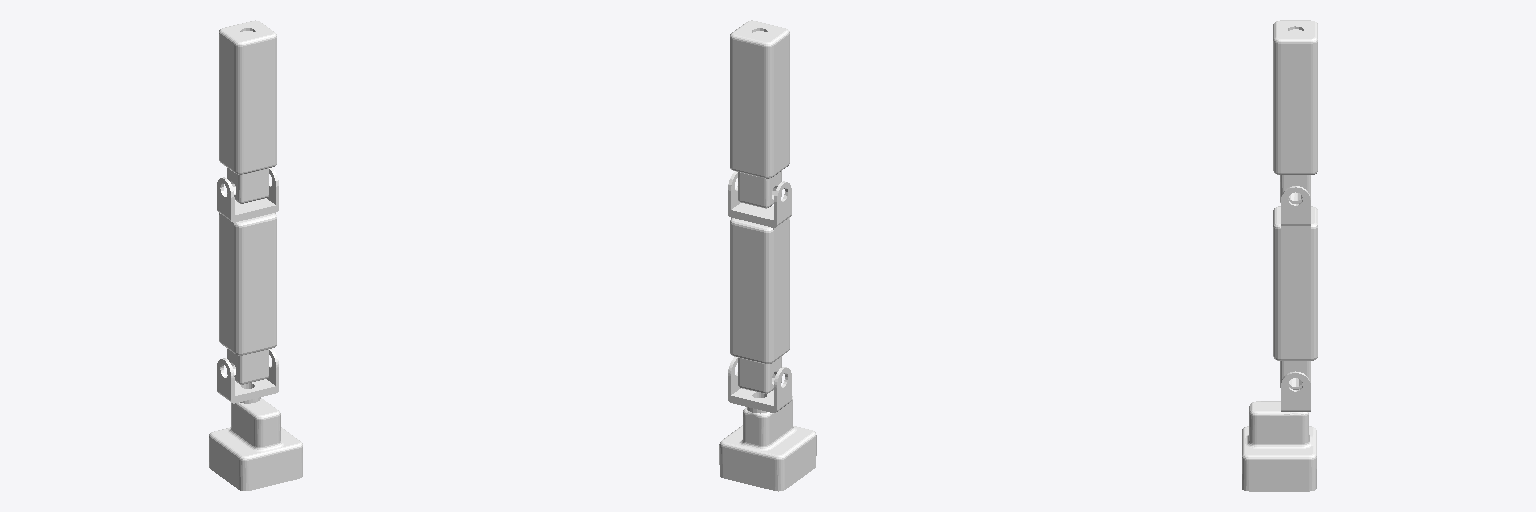
URDF robot description (arm_description):
<robot
  name="arm_description">
  <link
    name="base_link">
    <inertial>
      <origin
        xyz="-2.0703E-09 0.00010657 0.024068"
        rpy="0 0 0" />
      <mass
        value="0.17385" />
      <inertia
        ixx="0.00010151"
        ixy="4.9292E-12"
        ixz="1.2108E-11"
        iyy="9.4955E-05"
        iyz="-7.9143E-07"
        izz="9.7664E-05" />
    </inertial>
    <visual>
      <origin
        xyz="0 0 0"
        rpy="0 0 0" />
      <geometry>
        <mesh
          filename="package://arm_description/meshes/base_link.STL" />
      </geometry>
      <material
        name="">
        <color
          rgba="1 1 1 1" />
      </material>
    </visual>
    <collision>
      <origin
        xyz="0 0 0"
        rpy="0 0 0" />
      <geometry>
        <mesh
          filename="package://arm_description/meshes/base_link.STL" />
      </geometry>
    </collision>
  </link>
  <link
    name="bottom">
    <inertial>
      <origin
        xyz="-1.7347E-18 -4.3539E-17 0.0088832"
        rpy="0 0 0" />
      <mass
        value="0.011286" />
      <inertia
        ixx="4.4212E-06"
        ixy="-9.6522E-23"
        ixz="3.0781E-22"
        iyy="1.6248E-06"
        iyz="4.6026E-21"
        izz="4.115E-06" />
    </inertial>
    <visual>
      <origin
        xyz="0 0 0"
        rpy="0 0 0" />
      <geometry>
        <mesh
          filename="package://arm_description/meshes/bottom.STL" />
      </geometry>
      <material
        name="">
        <color
          rgba="1 1 1 1" />
      </material>
    </visual>
    <collision>
      <origin
        xyz="0 0 0"
        rpy="0 0 0" />
      <geometry>
        <mesh
          filename="package://arm_description/meshes/bottom.STL" />
      </geometry>
    </collision>
  </link>
  <joint
    name="bottom_yaw"
    type="revolute">
    <origin
      xyz="0 0.013899 0.069385"
      rpy="0 0 -1.5708" />
    <parent
      link="base_link" />
    <child
      link="bottom" />
    <axis
      xyz="0 0 1" />
    <limit
      lower="-1.7453"
      upper="1.7453"
      effort="0"
      velocity="0" />
  </joint>
  <link
    name="middle">
    <inertial>
      <origin
        xyz="-2.6489E-15 2.9875E-15 0.080094"
        rpy="0 0 0" />
      <mass
        value="0.23594" />
      <inertia
        ixx="0.00049554"
        ixy="-1.4378E-13"
        ixz="3.2469E-17"
        iyy="0.00048716"
        iyz="-3.6528E-17"
        izz="5.9595E-05" />
    </inertial>
    <visual>
      <origin
        xyz="0 0 0"
        rpy="0 0 0" />
      <geometry>
        <mesh
          filename="package://arm_description/meshes/middle.STL" />
      </geometry>
      <material
        name="">
        <color
          rgba="1 1 1 1" />
      </material>
    </visual>
    <collision>
      <origin
        xyz="0 0 0"
        rpy="0 0 0" />
      <geometry>
        <mesh
          filename="package://arm_description/meshes/middle.STL" />
      </geometry>
    </collision>
  </link>
  <joint
    name="middle_pitch"
    type="revolute">
    <origin
      xyz="0 0 0.026416"
      rpy="0 0 0" />
    <parent
      link="bottom" />
    <child
      link="middle" />
    <axis
      xyz="0 1 0" />
    <limit
      lower="-1.7453"
      upper="1.7453"
      effort="0"
      velocity="0" />
  </joint>
  <link
    name="top">
    <inertial>
      <origin
        xyz="-1.7347E-18 4.2005E-18 0.085572"
        rpy="0 0 0" />
      <mass
        value="0.25188" />
      <inertia
        ixx="0.00060592"
        ixy="-3.6721E-21"
        ixz="-8.1194E-23"
        iyy="0.00060037"
        iyz="1.3734E-20"
        izz="5.9624E-05" />
    </inertial>
    <visual>
      <origin
        xyz="0 0 0"
        rpy="0 0 0" />
      <geometry>
        <mesh
          filename="package://arm_description/meshes/top.STL" />
      </geometry>
      <material
        name="">
        <color
          rgba="1 1 1 1" />
      </material>
    </visual>
    <collision>
      <origin
        xyz="0 0 0"
        rpy="0 0 0" />
      <geometry>
        <mesh
          filename="package://arm_description/meshes/top.STL" />
      </geometry>
    </collision>
  </link>
  <joint
    name="top_pitch"
    type="revolute">
    <origin
      xyz="0 0 0.17312"
      rpy="0 0 0" />
    <parent
      link="middle" />
    <child
      link="top" />
    <axis
      xyz="0 1 0" />
    <limit
      lower="-1.7453"
      upper="1.7453"
      effort="0"
      velocity="0" />
  </joint>
</robot>

--- Facts derived from the render (not from the file) ---
Views: 3 orthographic renders of the robot side by side, from view 1: azimuth 30°, elevation 25°; view 2: azimuth 150°, elevation 25°; view 3: azimuth 270°, elevation 25°.
Model arm_description with 4 links and 3 joints (3 revolute), rooted at base_link, posed every joint at zero.
Links seen in each view (by area): view 1: middle, top, base_link, bottom; view 2: middle, top, base_link, bottom; view 3: middle, top, base_link, bottom.
Boxes of the visible links, bbox=[...] form: middle: bbox=[217, 168, 278, 384]; top: bbox=[219, 20, 276, 203]; base_link: bbox=[209, 397, 302, 490]; bottom: bbox=[217, 349, 278, 403]; middle: bbox=[728, 171, 791, 393]; top: bbox=[730, 20, 789, 208]; base_link: bbox=[719, 390, 816, 491]; bottom: bbox=[728, 357, 791, 412]; middle: bbox=[1273, 186, 1317, 389]; top: bbox=[1273, 20, 1317, 203]; base_link: bbox=[1242, 401, 1316, 491]; bottom: bbox=[1281, 371, 1310, 411].
Bounding box of the posed robot: 0.0635 × 0.0647 × 0.4156 m (x, y, z).
4 mesh visuals loaded from 4 distinct referenced files (4 binary STL).